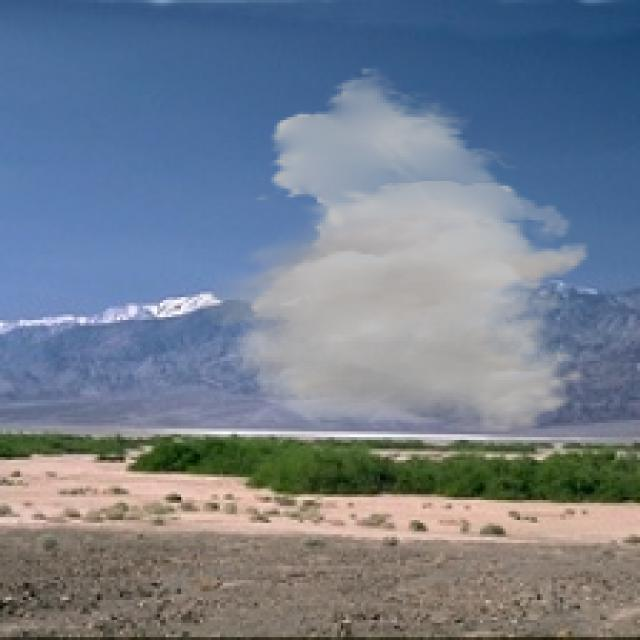smoke: (183, 66, 591, 434)
